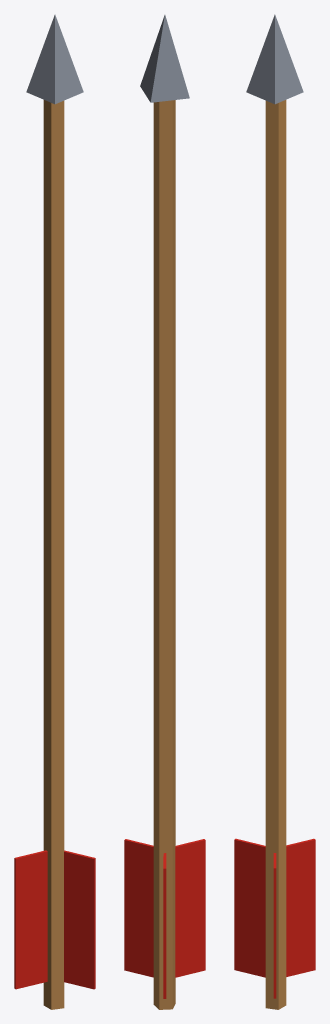
The model's file is arrow.fbx.
The picture shows the model from 3 angles, left to right: view 1: azimuth 90°, elevation 25°; view 2: azimuth 150°, elevation 25°; view 3: azimuth 270°, elevation 25°; orthographic projection.
Parts seen in each view (by area): view 1: arrow; view 2: arrow; view 3: arrow.
Part boxes in pixels (left/top/right/bottom): arrow: left=14, top=14, right=95, bottom=1009; arrow: left=124, top=15, right=205, bottom=1009; arrow: left=234, top=14, right=315, bottom=1009.
Size of the model in its own units: 0.052 by 0.76 by 0.0565.
